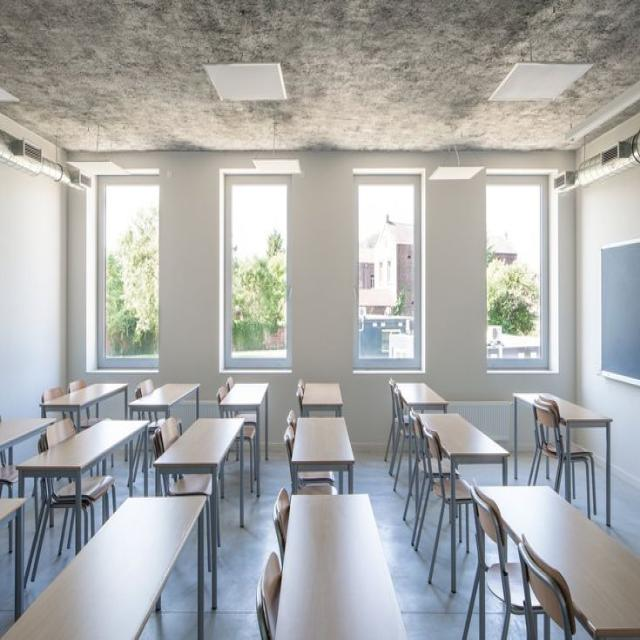obstacle: (1, 494, 206, 638), (473, 483, 639, 639), (14, 416, 150, 584), (274, 491, 408, 639), (410, 410, 510, 592), (152, 415, 245, 609), (512, 391, 612, 526), (127, 382, 200, 488), (219, 382, 268, 498), (290, 414, 354, 494)
